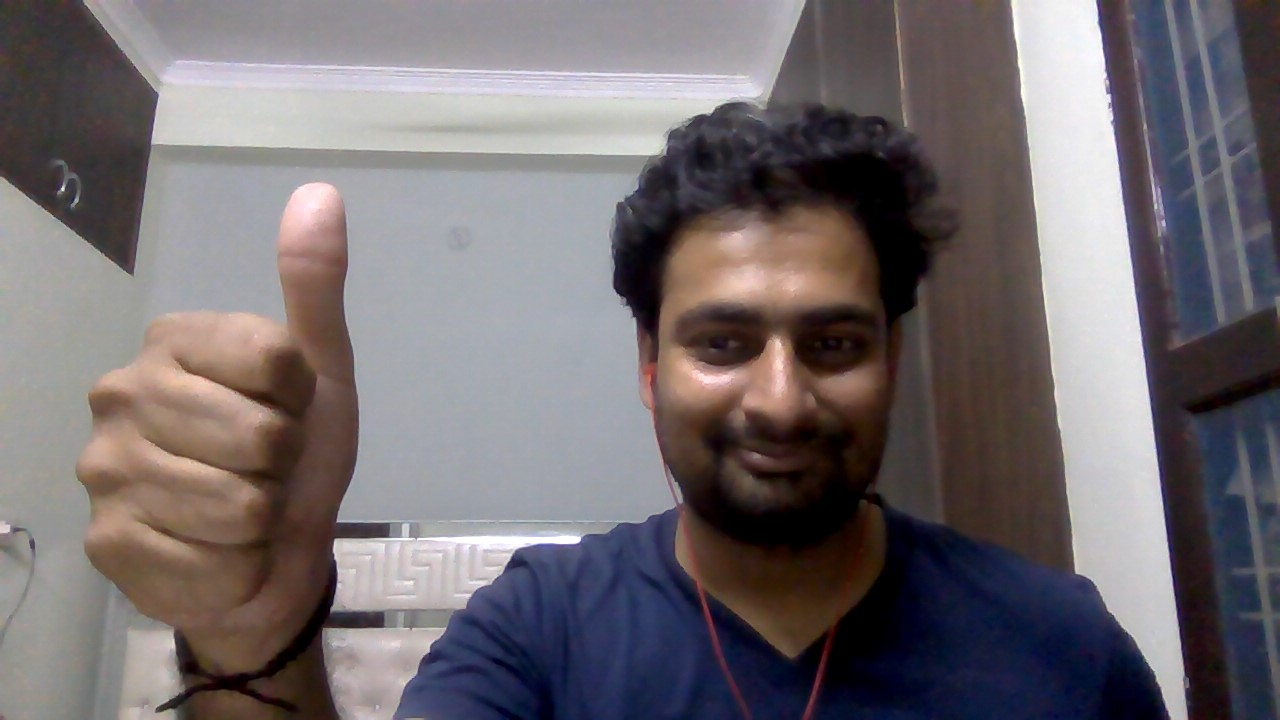Save: (68, 164, 393, 650)
